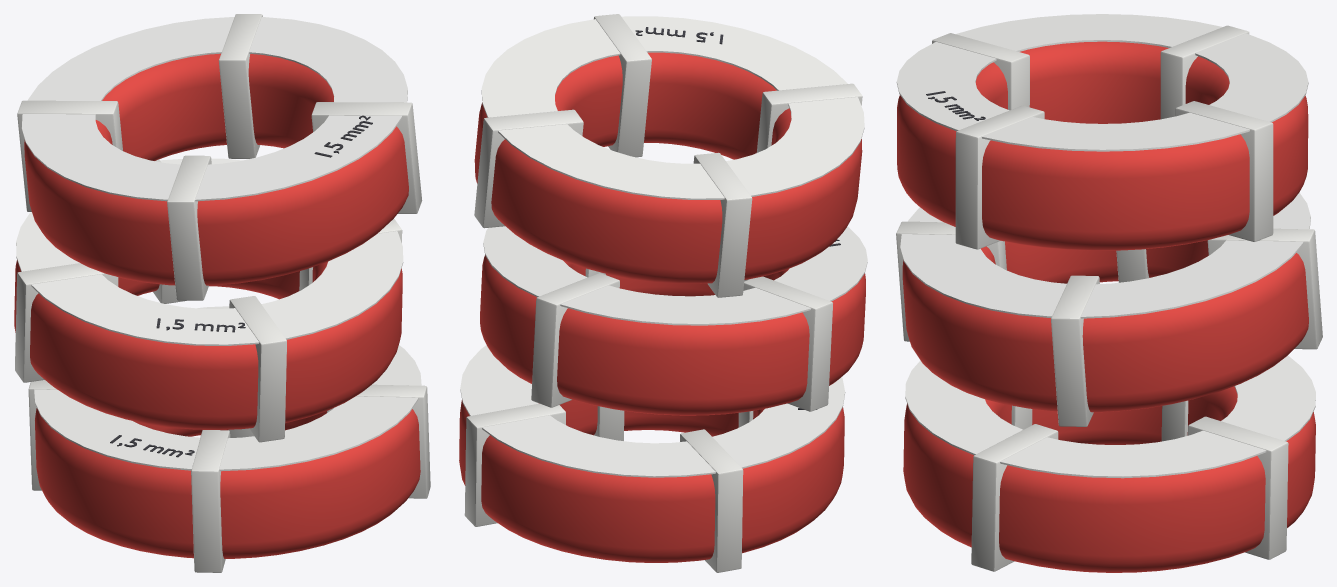
The model's file is ELE-FIO-001_anim.glb.
The picture shows the model from 3 angles, left to right: view 1: azimuth 30°, elevation 25°; view 2: azimuth 150°, elevation 25°; view 3: azimuth 270°, elevation 25°; orthographic projection. The views are drawn at different scales.
Parts seen in each view (by area): view 1: ELE-FIO-001_anim2, ELE-FIO-001_anim1, ELE-FIO-001_anim0; view 2: ELE-FIO-001_anim2, ELE-FIO-001_anim0, ELE-FIO-001_anim1; view 3: ELE-FIO-001_anim2, ELE-FIO-001_anim0, ELE-FIO-001_anim1.
Part boxes in pixels (left/top/right/bottom): ELE-FIO-001_anim2: left=17, top=14, right=422, bottom=300; ELE-FIO-001_anim1: left=14, top=158, right=403, bottom=442; ELE-FIO-001_anim0: left=28, top=306, right=430, bottom=572; ELE-FIO-001_anim2: left=474, top=14, right=864, bottom=297; ELE-FIO-001_anim0: left=459, top=345, right=845, bottom=572; ELE-FIO-001_anim1: left=480, top=226, right=867, bottom=415; ELE-FIO-001_anim2: left=896, top=14, right=1308, bottom=250; ELE-FIO-001_anim0: left=903, top=355, right=1315, bottom=572; ELE-FIO-001_anim1: left=896, top=192, right=1322, bottom=426.
Size of the model in its own units: 0.2369 by 0.257 by 0.2281.
